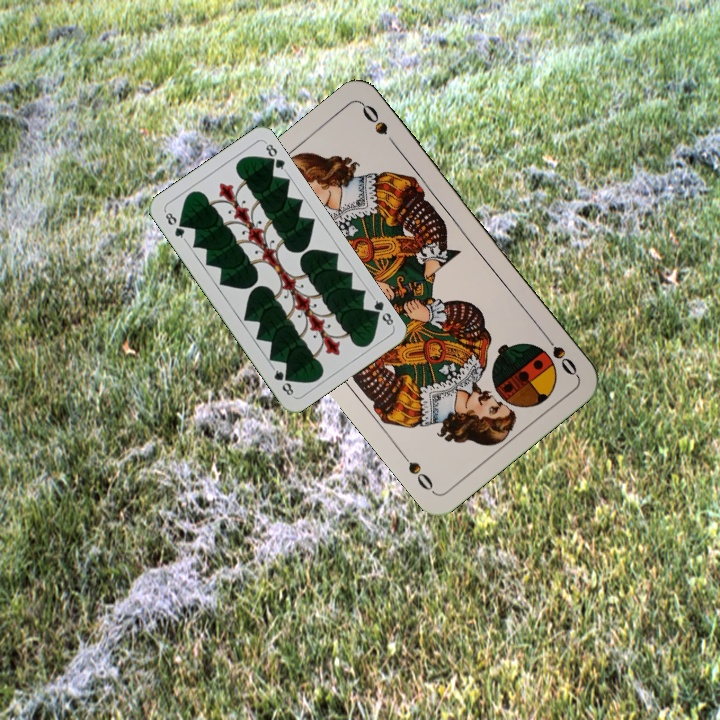G8: (367, 293, 396, 329), (161, 207, 188, 243)
SO: (538, 327, 580, 378)
